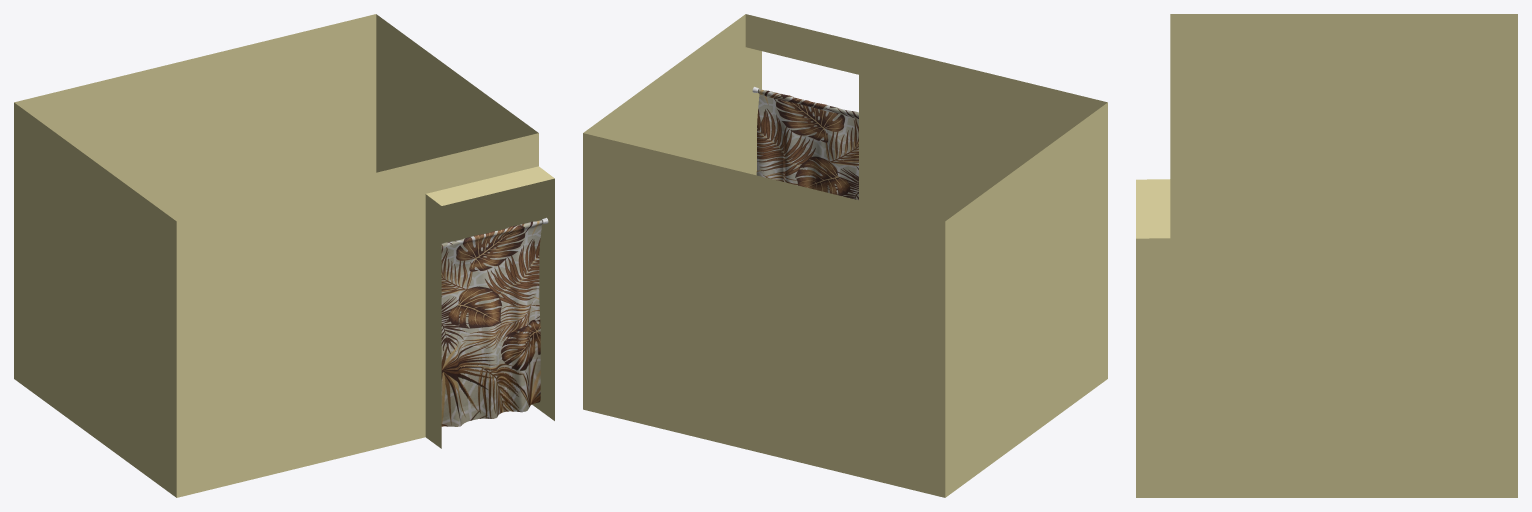
File: paredes.glb
3 renders of one model, left to right at view 1: azimuth 30°, elevation 25°; view 2: azimuth 150°, elevation 25°; view 3: azimuth 270°, elevation 25°, orthographic. The views are drawn at different scales.
Visible parts, largest first — view 1: Cube, Plane.002; view 2: Cube, Plane.002; view 3: Cube.
Boxes of the visible parts, x1,y1,x2,y2 form: Cube: (14,14,554,497); Plane.002: (441,220,542,426); Cube: (583,14,1107,497); Plane.002: (756,89,858,200); Cube: (1136,14,1517,497).
Bounding box in the file's own units: 4.05 × 2.96 × 3.46.
4 materials, 1 textured.
